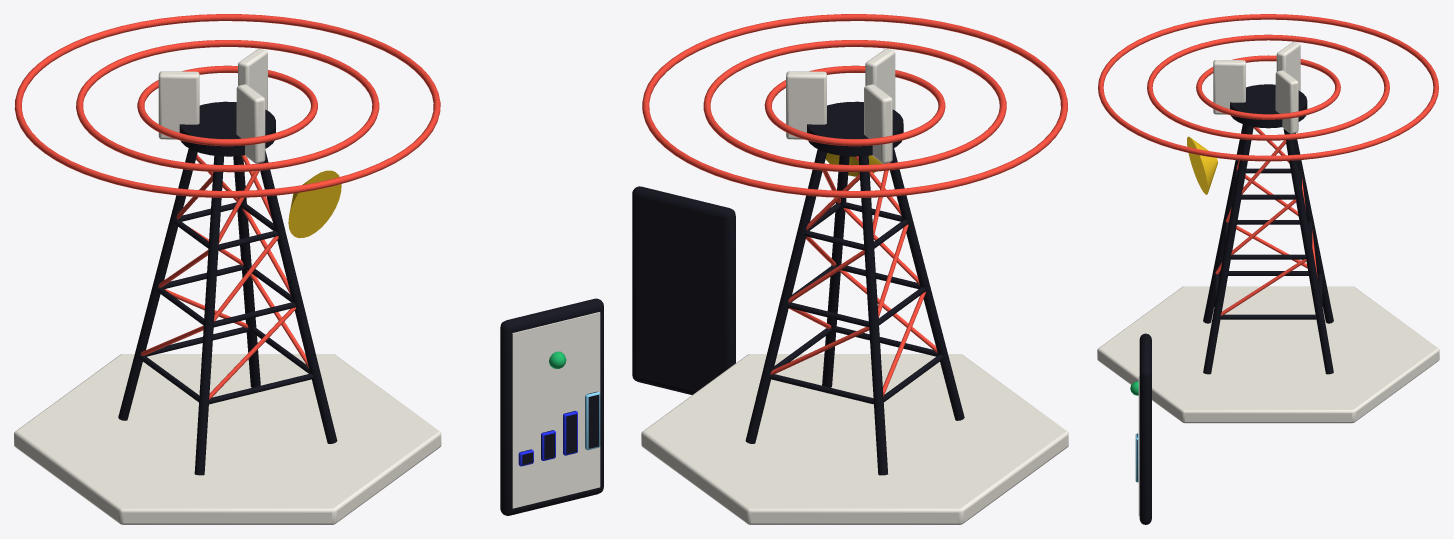
Rendered from tower.glb.
3 views of the same model, side by side, from view 1: azimuth 30°, elevation 25°; view 2: azimuth 150°, elevation 25°; view 3: azimuth 270°, elevation 25° (orthographic). The views are drawn at different scales.
Parts seen in each view (by area): view 1: base, bob_phone, mast, pulse_wave2, panels, pulse_wave1, pulse_wave0, top, dish; view 2: base, bob_phone, mast, pulse_wave2, pulse_wave1, panels, pulse_wave0, top; view 3: base, mast, pulse_wave2, pulse_wave1, panels, bob_phone, pulse_wave0, top, dish.
Boxes of the visible parts, left/top/right/bottom form: base: left=14, top=354, right=441, bottom=524; bob_phone: left=500, top=298, right=603, bottom=515; mast: left=118, top=148, right=337, bottom=475; pulse_wave2: left=14, top=14, right=440, bottom=197; panels: left=158, top=49, right=267, bottom=163; pulse_wave1: left=76, top=40, right=379, bottom=172; pulse_wave0: left=137, top=65, right=317, bottom=146; top: left=179, top=101, right=275, bottom=156; dish: left=288, top=170, right=341, bottom=238; base: left=641, top=354, right=1068, bottom=524; bob_phone: left=632, top=186, right=735, bottom=394; mast: left=745, top=148, right=964, bottom=475; pulse_wave2: left=642, top=14, right=1067, bottom=197; pulse_wave1: left=703, top=40, right=1006, bottom=172; panels: left=786, top=49, right=895, bottom=163; pulse_wave0: left=764, top=65, right=945, bottom=146; top: left=807, top=101, right=903, bottom=156; base: left=1097, top=286, right=1439, bottom=423; mast: left=1203, top=124, right=1333, bottom=374; pulse_wave2: left=1098, top=14, right=1438, bottom=161; pulse_wave1: left=1147, top=34, right=1389, bottom=140; panels: left=1213, top=42, right=1300, bottom=133; bob_phone: left=1130, top=333, right=1151, bottom=524; pulse_wave0: left=1196, top=55, right=1340, bottom=119; top: left=1230, top=84, right=1307, bottom=128; dish: left=1187, top=136, right=1217, bottom=194.
Bounding box in the file's own units: 10.92 × 9.4 × 8.37.
